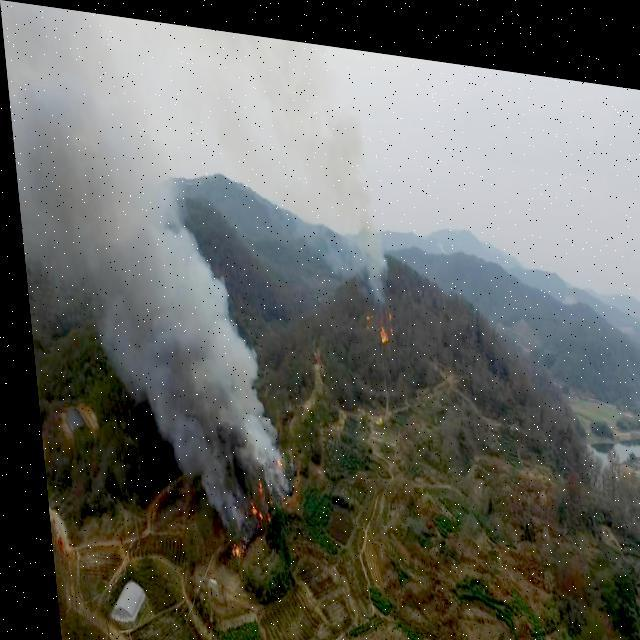Fire: (178, 374, 308, 572), (343, 268, 403, 354)
